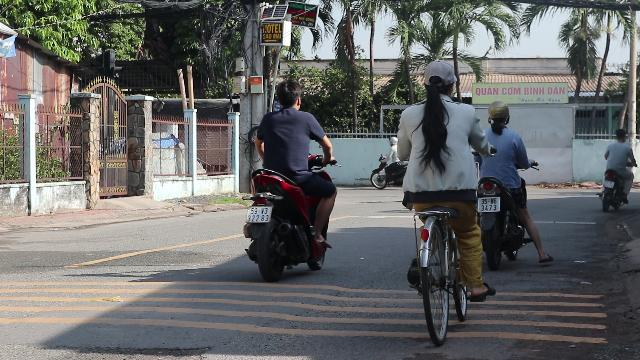helmet: (486, 100, 510, 128)
licenseplate: (246, 206, 270, 222), (478, 198, 500, 212)
motorcyclist: (240, 78, 338, 280), (472, 100, 544, 268)
nohelmet: (419, 59, 456, 97), (273, 80, 303, 110)
